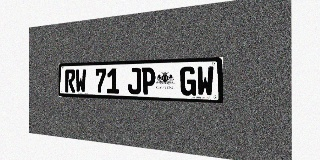1: (107, 68, 119, 94)
7: (95, 68, 106, 93)
G: (180, 66, 196, 96)
J: (128, 68, 141, 94)
P: (141, 67, 155, 95)
R: (65, 69, 75, 92)
W: (197, 66, 214, 96), (75, 69, 86, 93)
